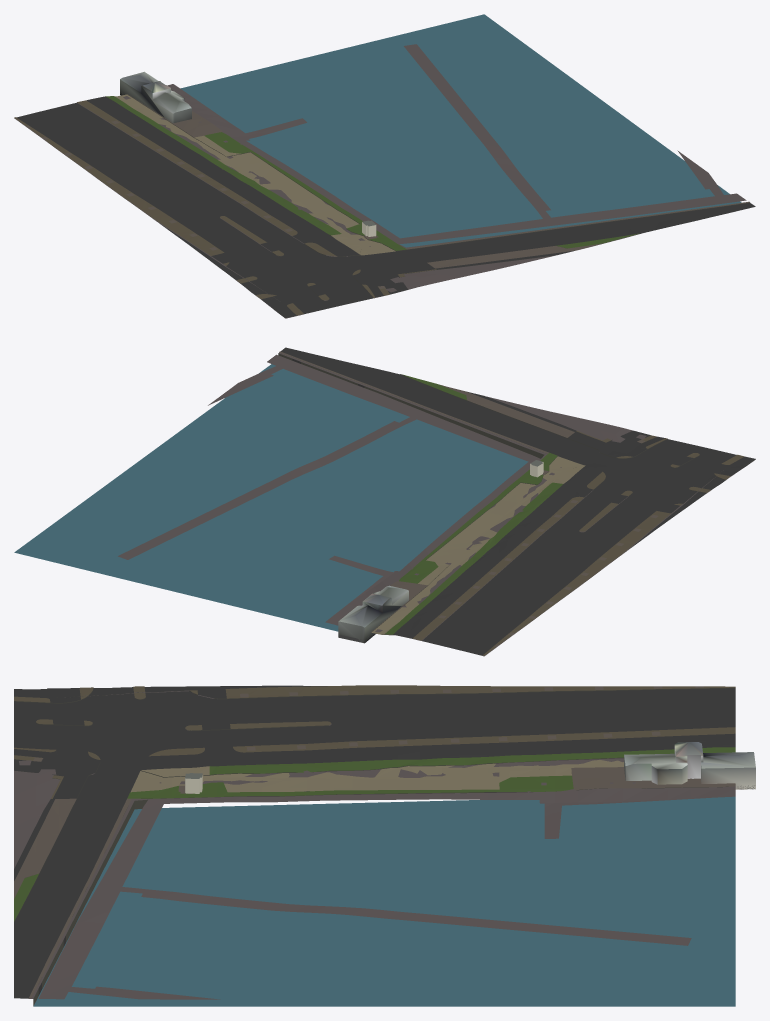
3 views of the same model, one above another, from view 1: azimuth 30°, elevation 25°; view 2: azimuth 150°, elevation 25°; view 3: azimuth 270°, elevation 25° (orthographic). The views are drawn at different scales.
Visible parts, largest first — view 1: c_p04_m05; view 2: c_p04_m05; view 3: c_p04_m05.
Boxes of the visible parts, x1,y1,x2,y2 form: c_p04_m05: (14,14,755,318); c_p04_m05: (14,347,755,656); c_p04_m05: (14,685,755,1006).
Size of the model in its own units: 128 by 7.7 by 132.
